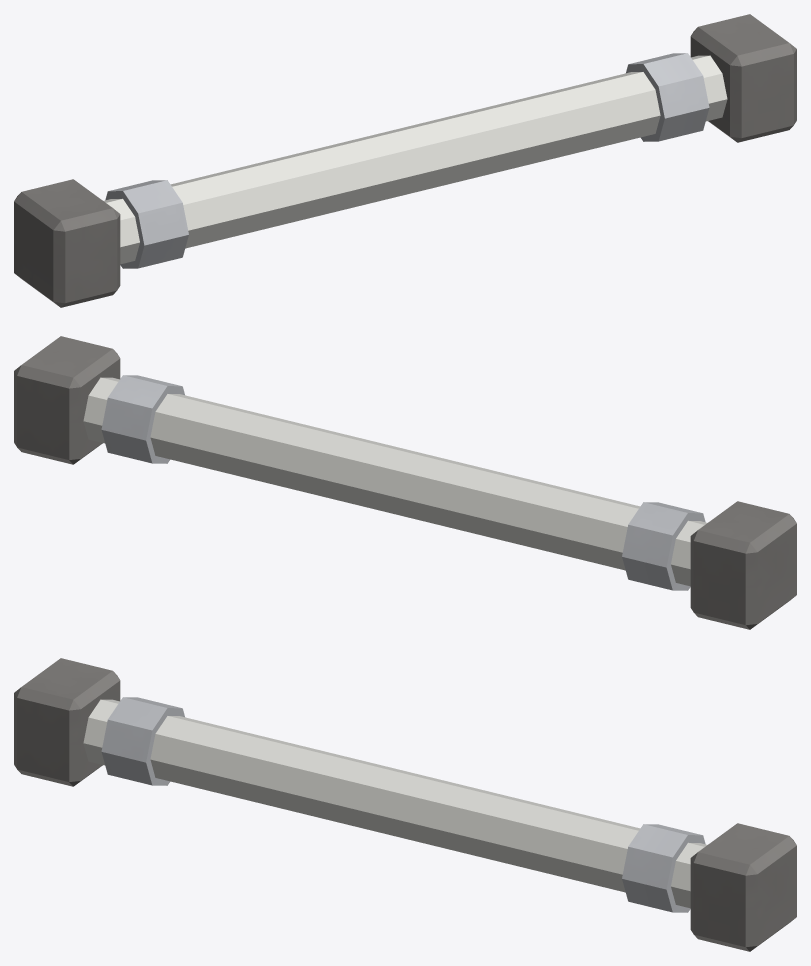
Rendered from ax_gear_07_strut_xs.glb.
3 renders of one model, top to bottom at view 1: azimuth 30°, elevation 25°; view 2: azimuth 150°, elevation 25°; view 3: azimuth 330°, elevation 25°, orthographic.
Visible parts, largest first — view 1: strut_tube, end_fittings, tension_collars; view 2: strut_tube, end_fittings, tension_collars; view 3: strut_tube, end_fittings, tension_collars.
Part boxes in pixels (x1=…): strut_tube: x1=103, y1=55, x2=727, y2=264; end_fittings: x1=14, y1=14, x2=796, y2=307; tension_collars: x1=105, y1=53, x2=709, y2=268; strut_tube: x1=83, y1=377, x2=707, y2=586; end_fittings: x1=14, y1=336, x2=796, y2=629; tension_collars: x1=101, y1=375, x2=705, y2=590; strut_tube: x1=83, y1=699, x2=707, y2=908; end_fittings: x1=14, y1=658, x2=796, y2=951; tension_collars: x1=101, y1=697, x2=705, y2=912.
Size of the model in its own units: 1 by 0.112 by 0.112.
3 materials, 2 textured.
